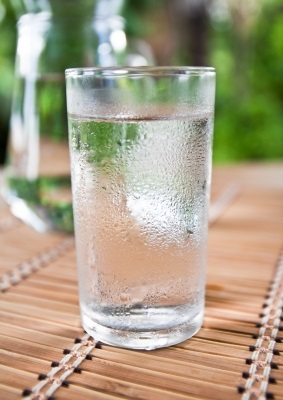glass of water: (70, 77, 210, 336)
